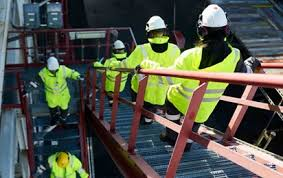helmet: (202, 4, 227, 27), (145, 15, 166, 30), (57, 152, 69, 166), (48, 56, 59, 71), (114, 38, 125, 50)
